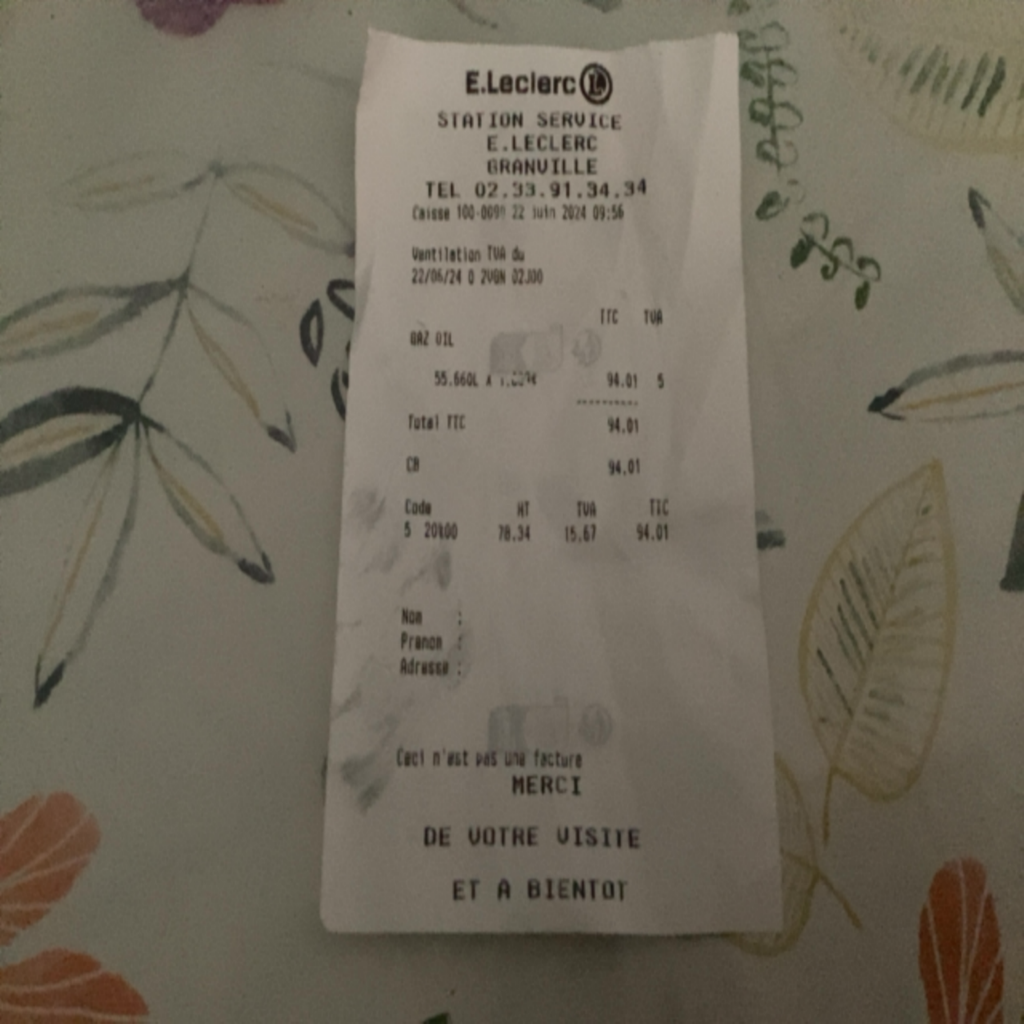recipt: (325, 31, 781, 932)
